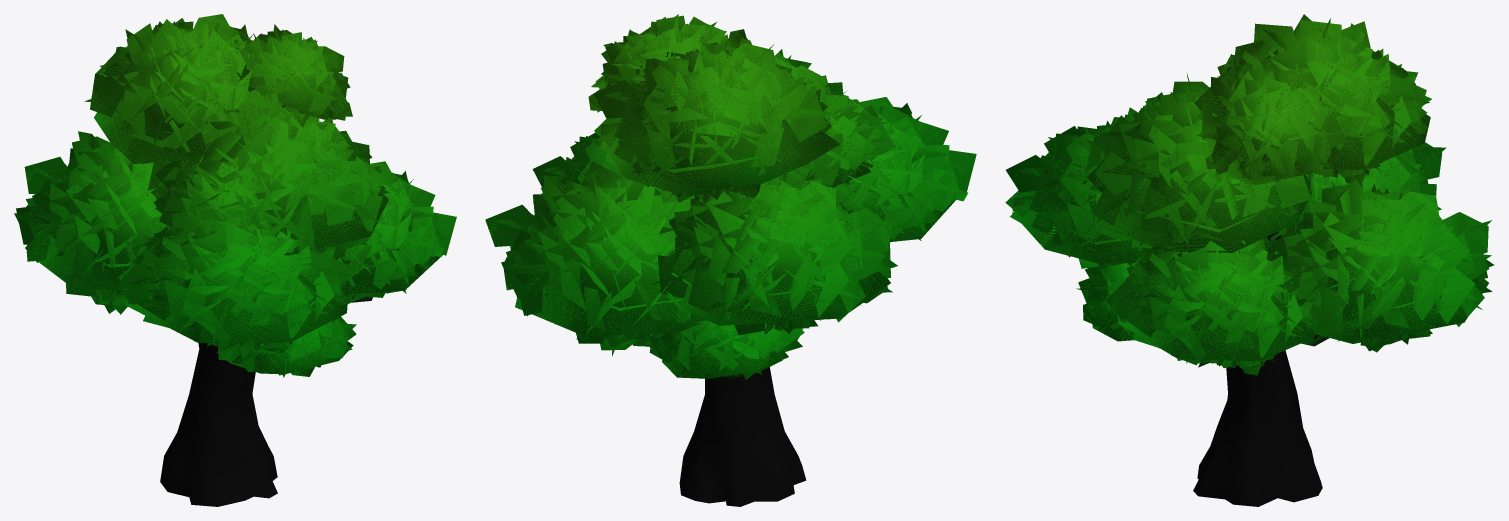
Rendered from Tree.fbx.
3 views of the same model, side by side, from view 1: azimuth 30°, elevation 25°; view 2: azimuth 150°, elevation 25°; view 3: azimuth 270°, elevation 25° (orthographic). The views are drawn at different scales.
Parts seen in each view (by area): view 1: tree_1_LOD0; view 2: tree_1_LOD0; view 3: tree_1_LOD0.
Boxes of the visible parts, x1,y1,x2,y2 form: tree_1_LOD0: [14, 14, 456, 506]; tree_1_LOD0: [485, 14, 976, 506]; tree_1_LOD0: [1005, 14, 1494, 506].
Size of the model in its own units: 13.8 by 16.13 by 15.62.
